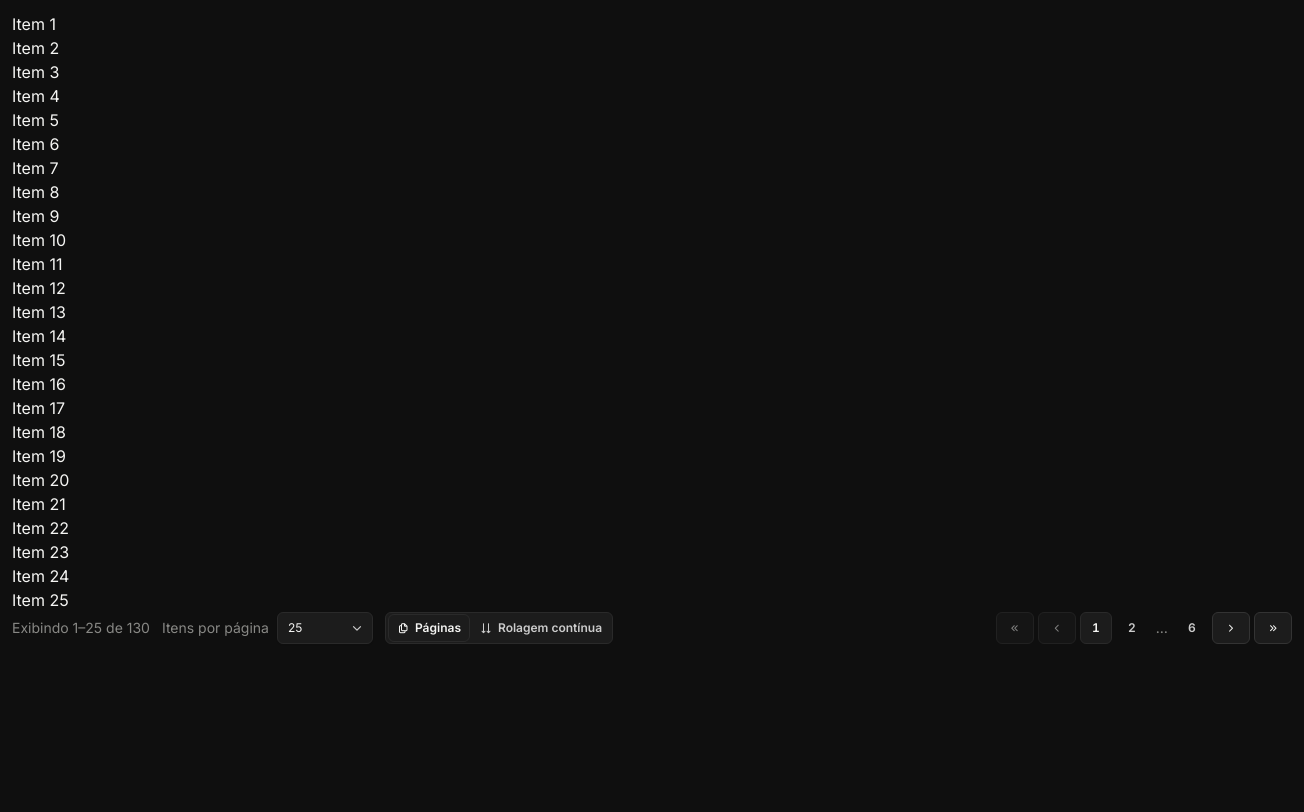
Scenario: Pagination › navigates pages by number, neighbours and ends, and returns to page 1 on a filter change
This screenshot has width=1304, height=812.
Expected: the text "Exibindo 1–25 de 130" is shown, [12, 618, 150, 638]
Expected: the button named "Primeira página" is disabled, [996, 612, 1034, 644]
Click the button named "Ir para a página 2" at coordinates (1132, 628), box [1116, 612, 1148, 644]
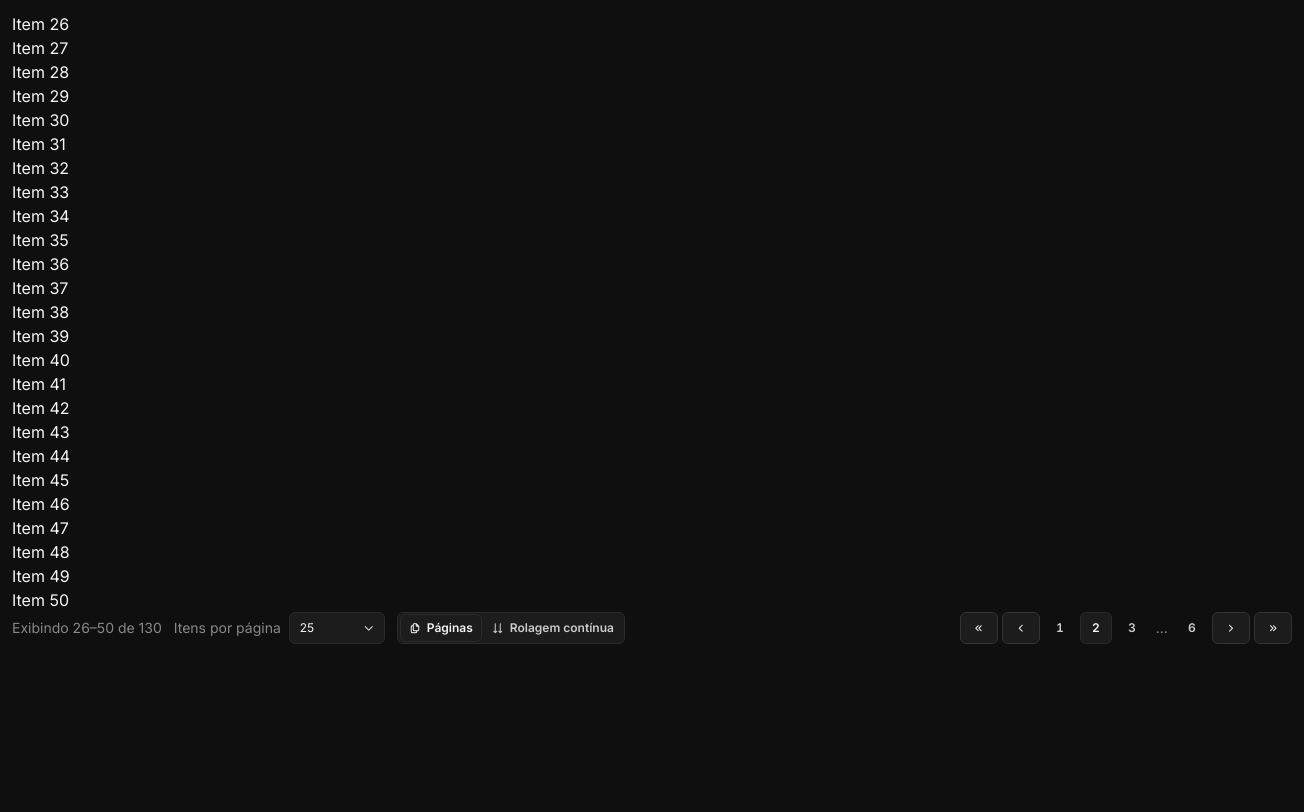
Click the button named "Ir para a página 3" at coordinates (1132, 628), box [1116, 612, 1148, 644]
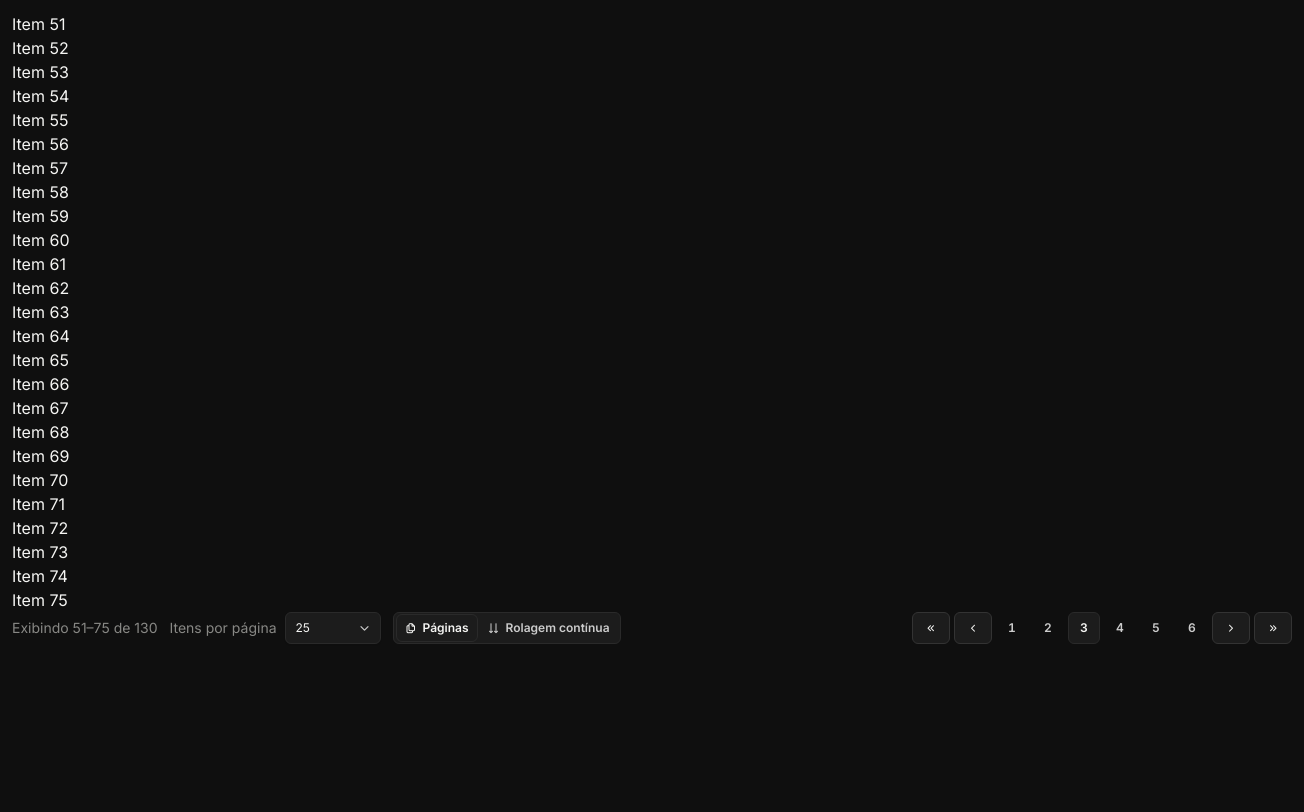
Expected: the list item "Item 51" is shown, [12, 14, 66, 34]
Click the button named "Última página" at coordinates (1273, 628), box [1254, 612, 1292, 644]
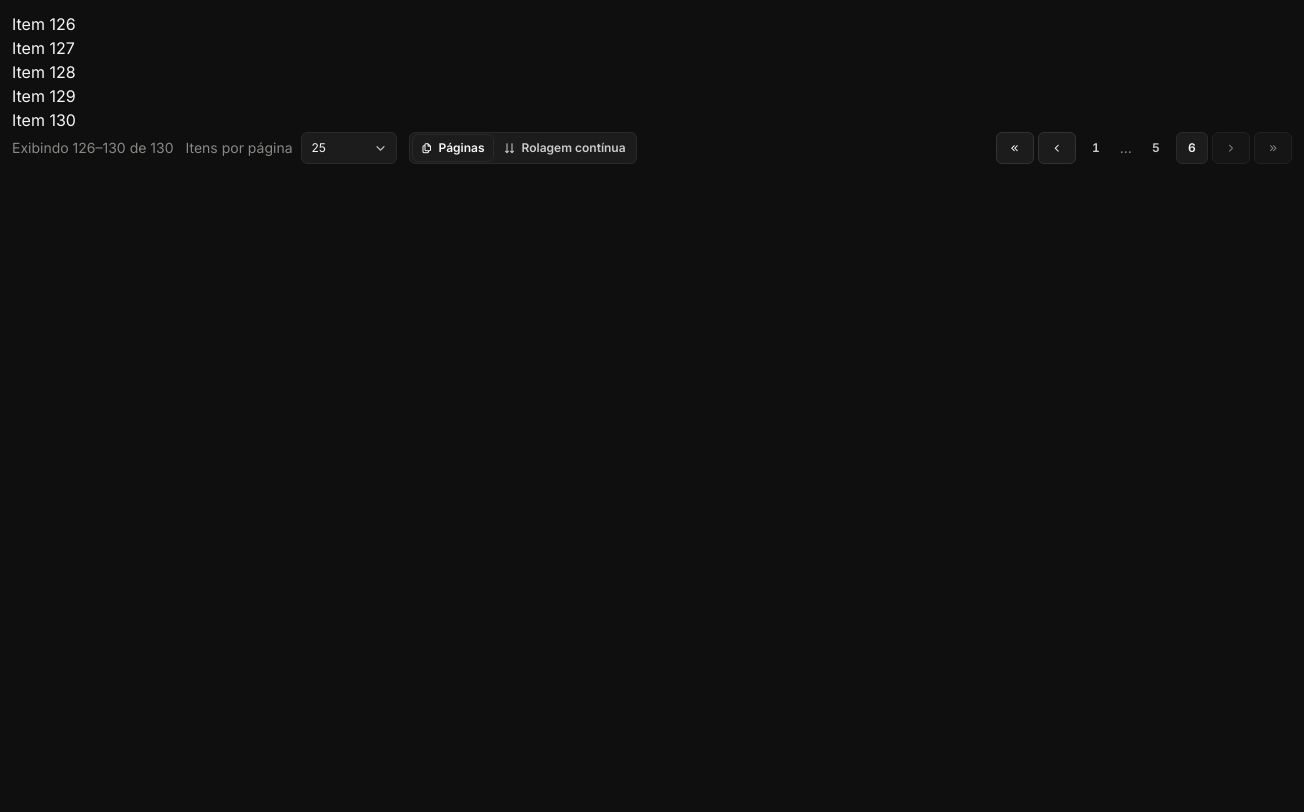
Expected: the button named "Próxima página" is disabled, [1212, 132, 1250, 164]
Click the button named "Página anterior" at coordinates (1057, 148), box [1038, 132, 1076, 164]
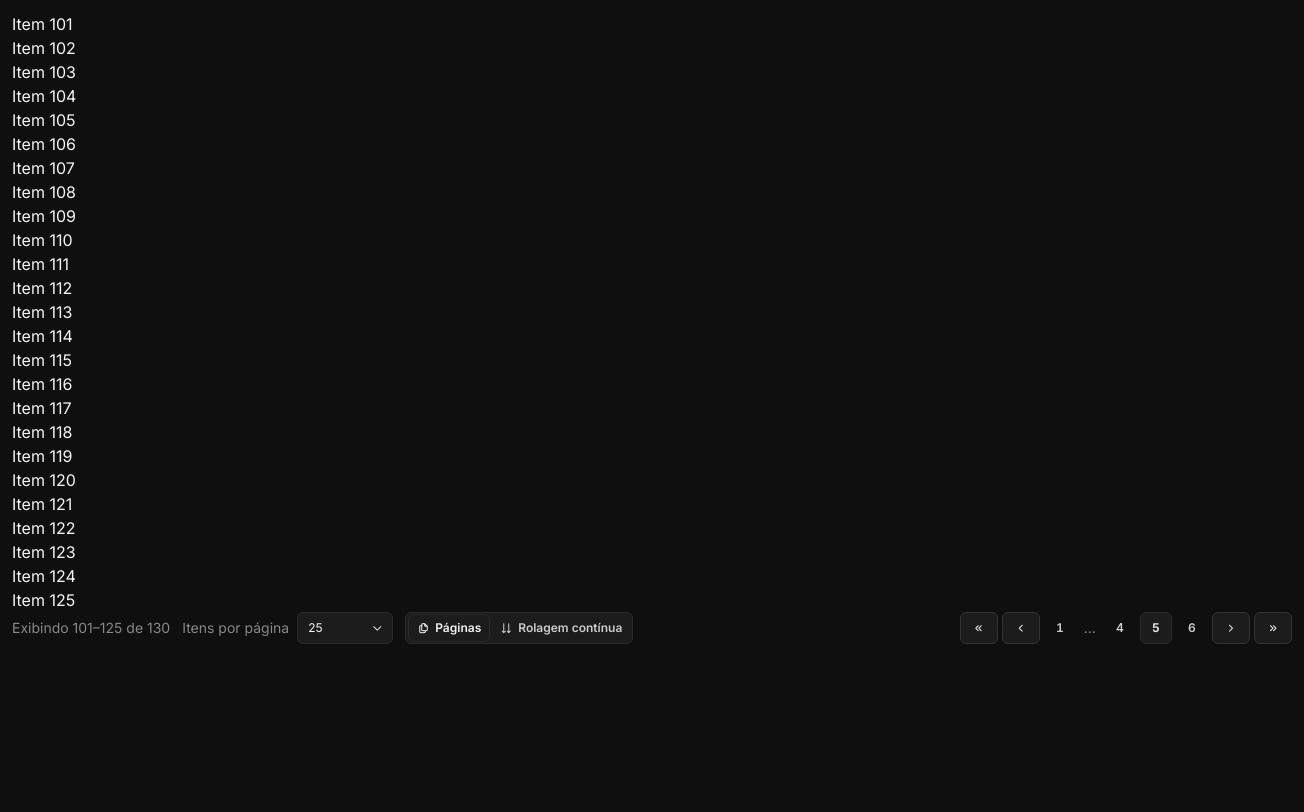
Expected: the list item "Item 101" is shown, [12, 14, 73, 34]
